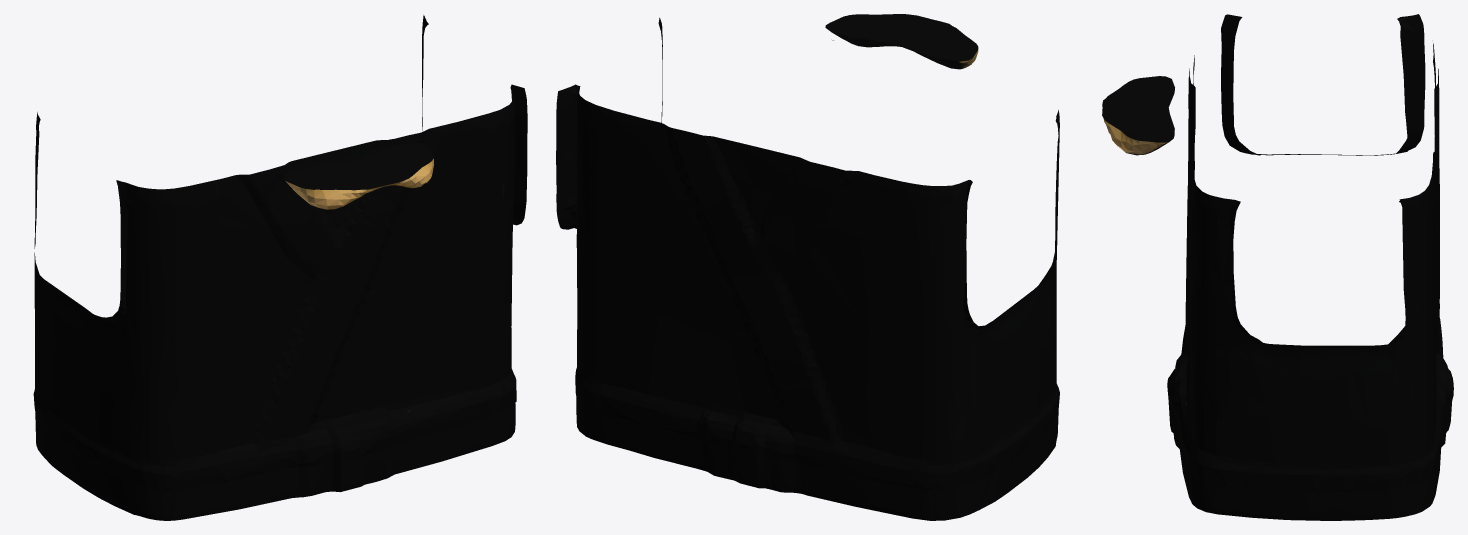
Rendered from UpperTorso.glb.
3 views of the same model, side by side, from view 1: azimuth 30°, elevation 25°; view 2: azimuth 150°, elevation 25°; view 3: azimuth 270°, elevation 25° (orthographic). The views are drawn at different scales.
Visible parts, largest first — view 1: UpperTorso; view 2: UpperTorso; view 3: UpperTorso.
Part boxes in pixels (left/top/right/bottom): UpperTorso: left=33, top=15, right=527, bottom=520; UpperTorso: left=556, top=14, right=1059, bottom=520; UpperTorso: left=1102, top=14, right=1453, bottom=520.
Size of the model in its own units: 2.28 by 1.77 by 1.77.
1 material, 1 textured.
